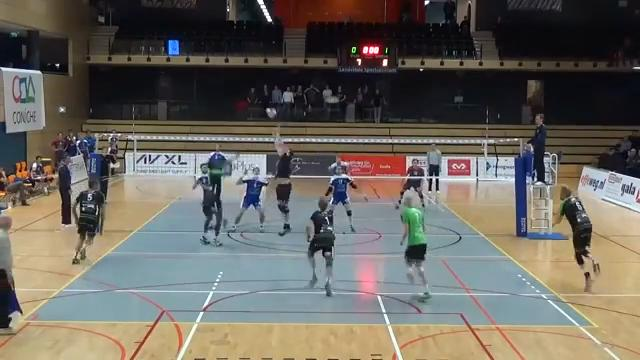Player: (553, 186, 599, 291), (400, 190, 430, 300), (305, 198, 335, 296), (72, 180, 104, 263), (192, 164, 222, 245), (231, 167, 267, 231), (325, 167, 356, 231), (395, 159, 424, 208), (207, 145, 228, 207), (329, 155, 350, 175)
Set: (265, 123, 299, 242)
ball: (266, 107, 276, 118)
